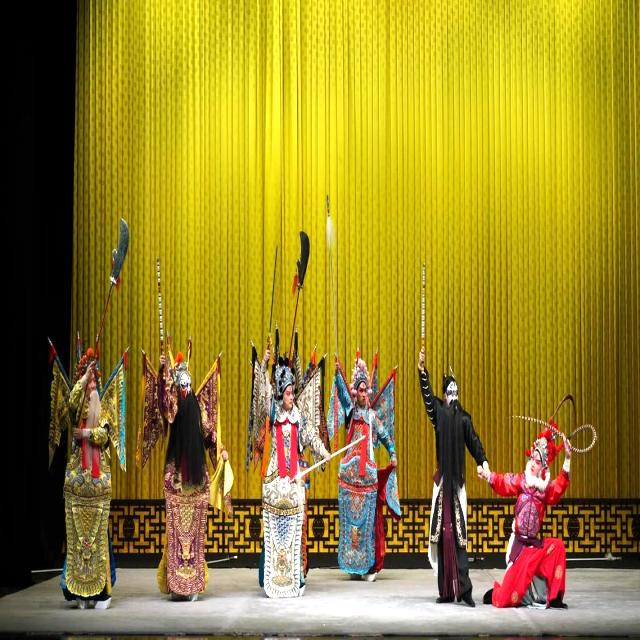Reeves-s Pheasant: (570, 424, 597, 454), (551, 395, 574, 420), (513, 415, 550, 426), (553, 426, 560, 438)
